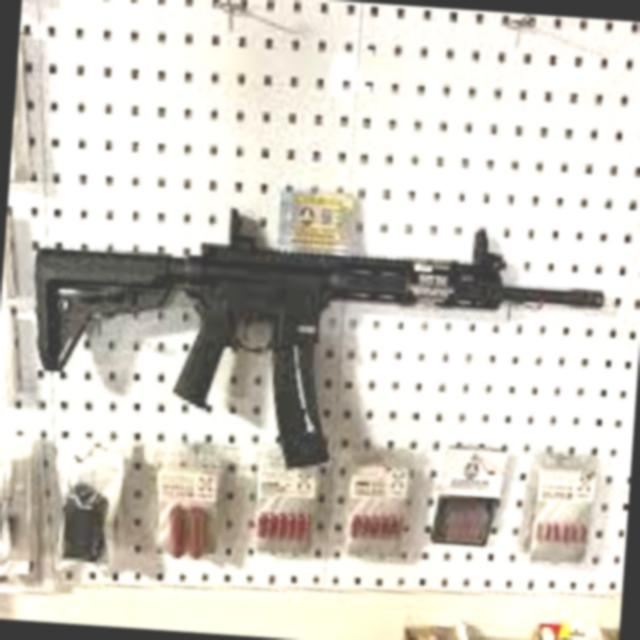m16: (8, 157, 624, 498)
